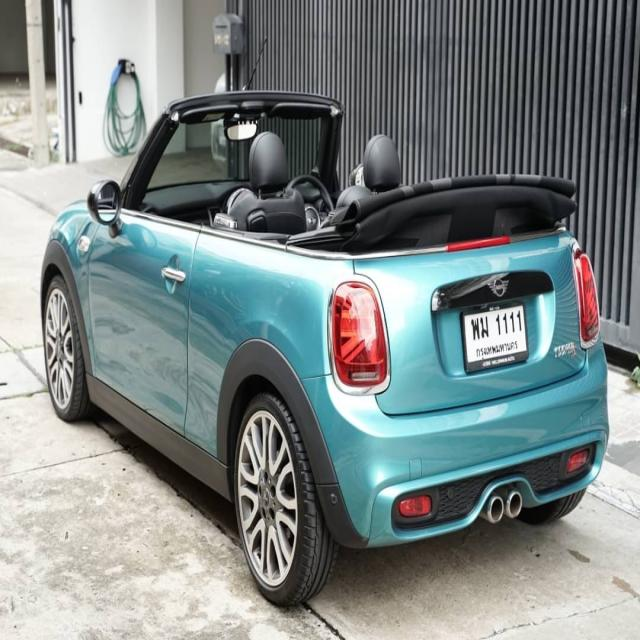license_plate: (454, 293, 532, 379)
